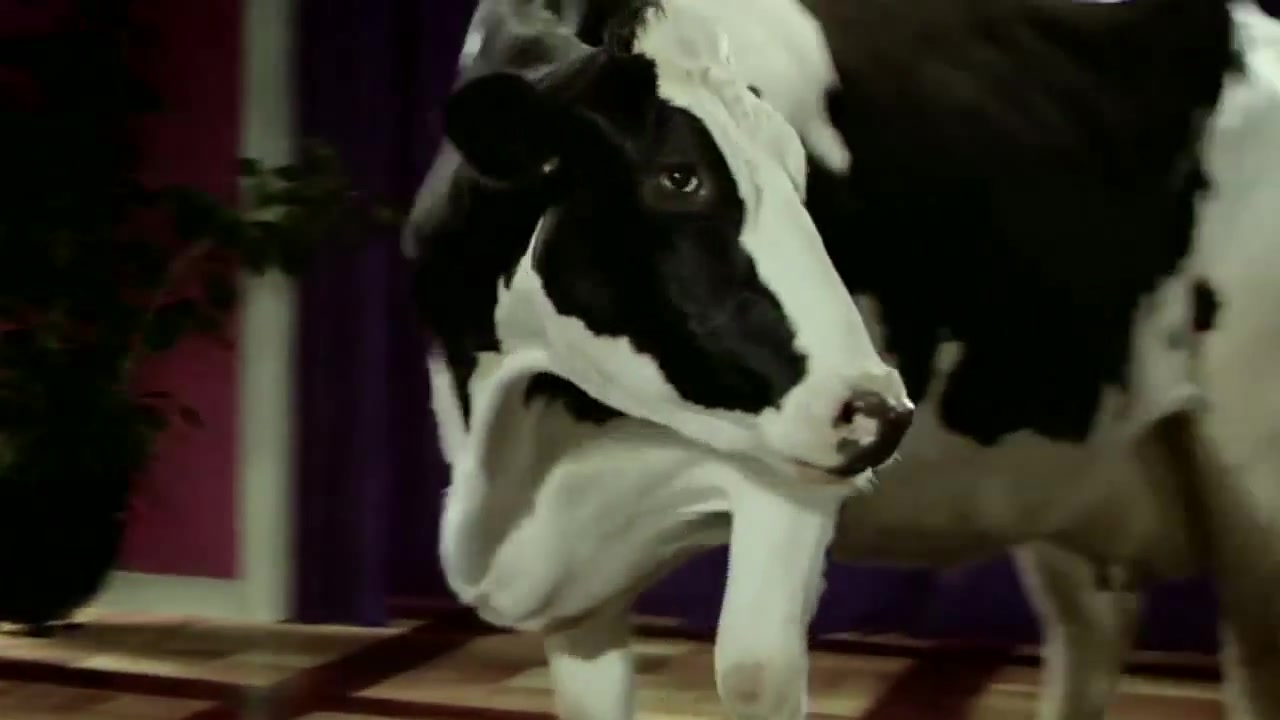cow: (407, 2, 1280, 720)
